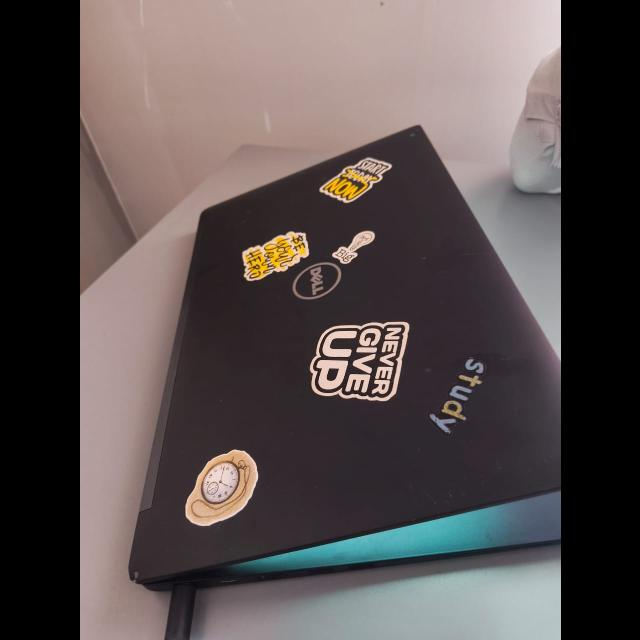laptop: (118, 98, 556, 584)
